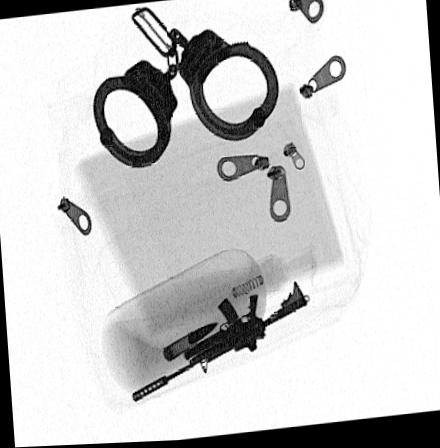Bullet: (161, 323, 218, 365)
Gun: (132, 280, 309, 404)
HandCuffs: (90, 25, 279, 173)
